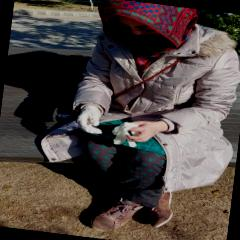gloved: (74, 105, 107, 136)
not-gloved: (125, 115, 170, 144)
